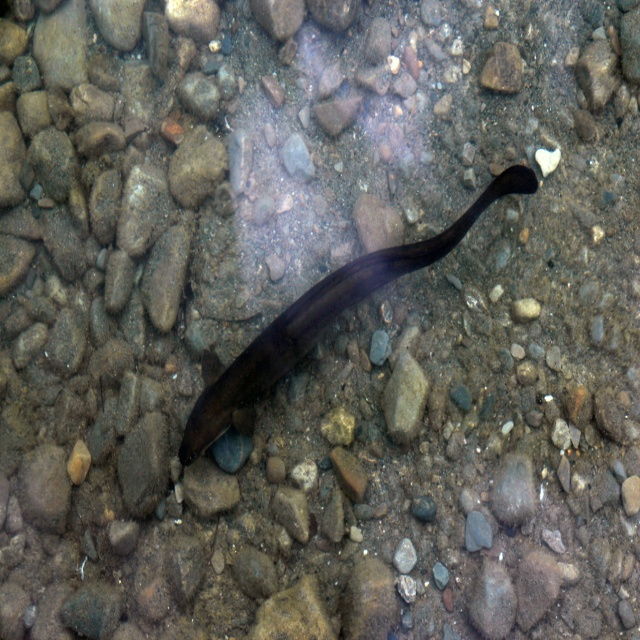Fish: (196, 158, 563, 489)
